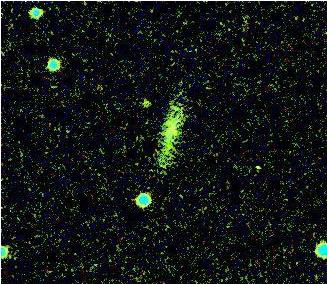star: (131, 88, 161, 118)
